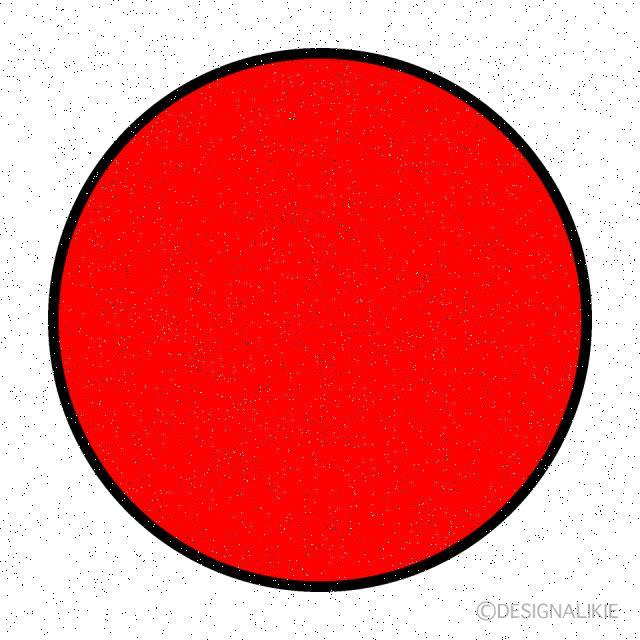Circle: (46, 47, 594, 595)
